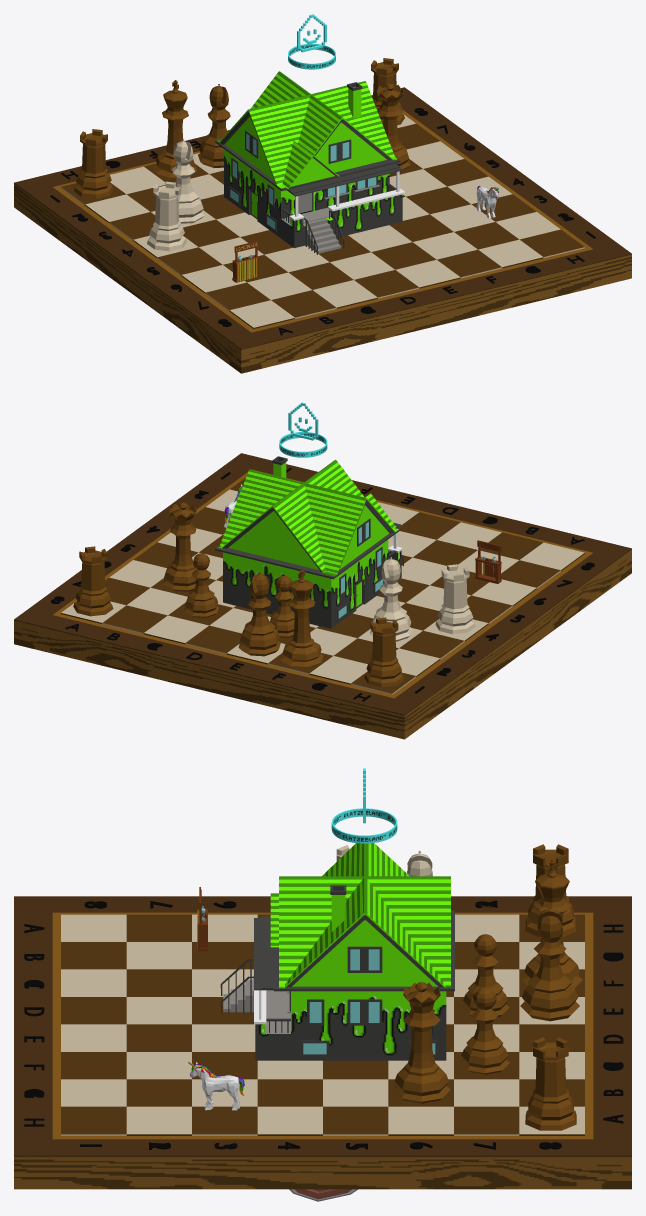
The picture shows the model from 3 angles, top to bottom: view 1: azimuth 30°, elevation 25°; view 2: azimuth 150°, elevation 25°; view 3: azimuth 270°, elevation 25°; orthographic projection. The views are drawn at different scales.
Visible parts, largest first — view 1: Cube.002, Cube.754, TYPE_PREMIUM, OBJRANDOM_LEMONADE_STAND, ANIMAL_UNICORNIO; view 2: Cube.002, Cube.754, TYPE_PREMIUM, OBJRANDOM_LEMONADE_STAND; view 3: Cube.002, Cube.754, TYPE_PREMIUM, ANIMAL_UNICORNIO.
Boxes of the visible parts, left/top/right/bottom form: Cube.002: left=14, top=58, right=631, bottom=373; Cube.754: left=215, top=71, right=405, bottom=254; TYPE_PREMIUM: left=288, top=14, right=335, bottom=69; OBJRANDOM_LEMONADE_STAND: left=232, top=240, right=258, bottom=282; ANIMAL_UNICORNIO: left=476, top=186, right=498, bottom=218; Cube.002: left=14, top=453, right=631, bottom=739; Cube.754: left=215, top=456, right=403, bottom=628; TYPE_PREMIUM: left=279, top=402, right=327, bottom=457; OBJRANDOM_LEMONADE_STAND: left=475, top=540, right=501, bottom=583; Cube.002: left=14, top=844, right=631, bottom=1189; Cube.754: left=220, top=843, right=454, bottom=1060; TYPE_PREMIUM: left=331, top=768, right=397, bottom=843; ANIMAL_UNICORNIO: left=188, top=1061, right=244, bottom=1110.
Size of the model in its own units: 3981 by 2894 by 4012.
42 materials, 4 textured.
